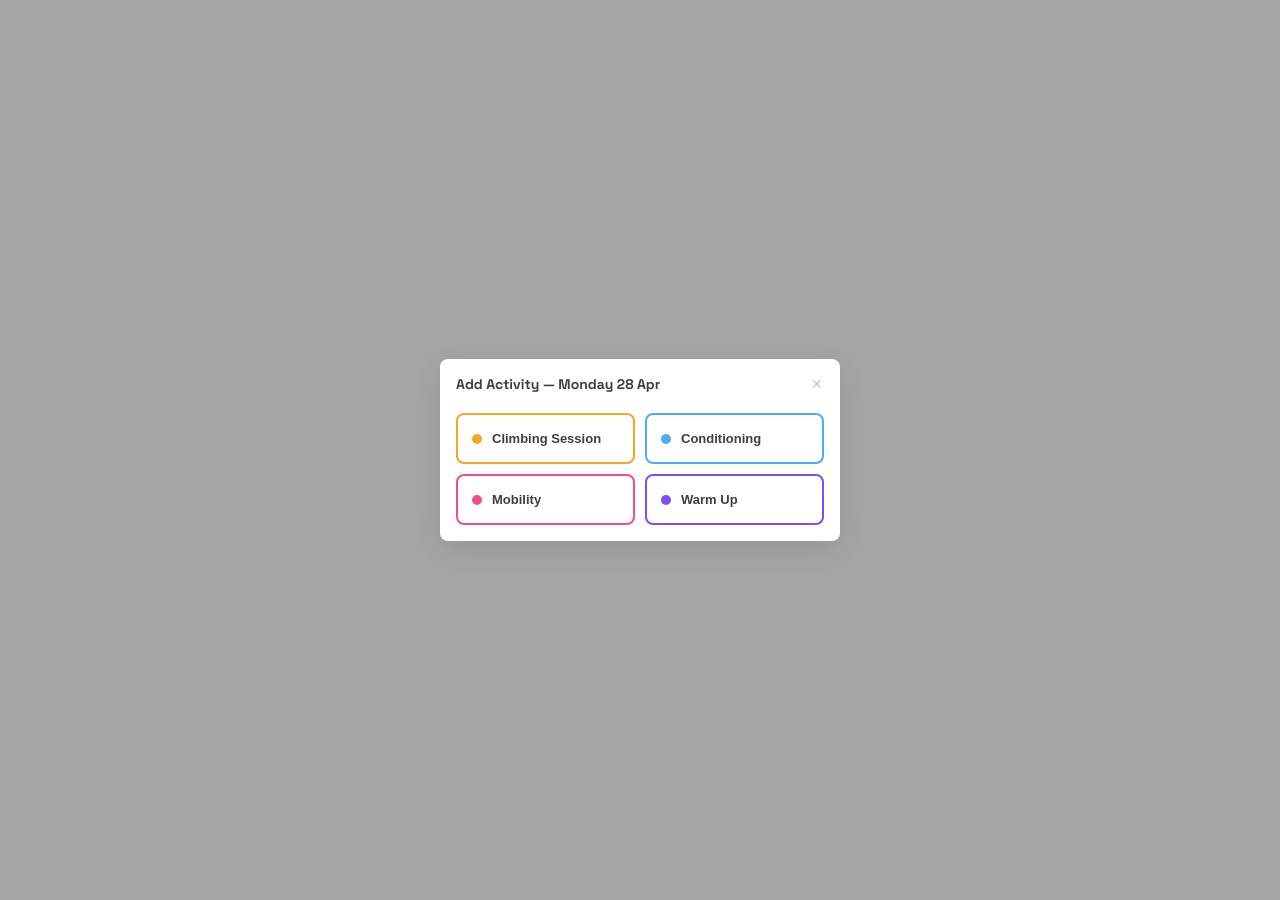
it: AddActivityModal › Step 1: Category Picker › clicking a category advances to step 2
This screenshot has width=1280, height=900.
Click the button "Conditioning" at (734, 438), box [645,413,824,464]
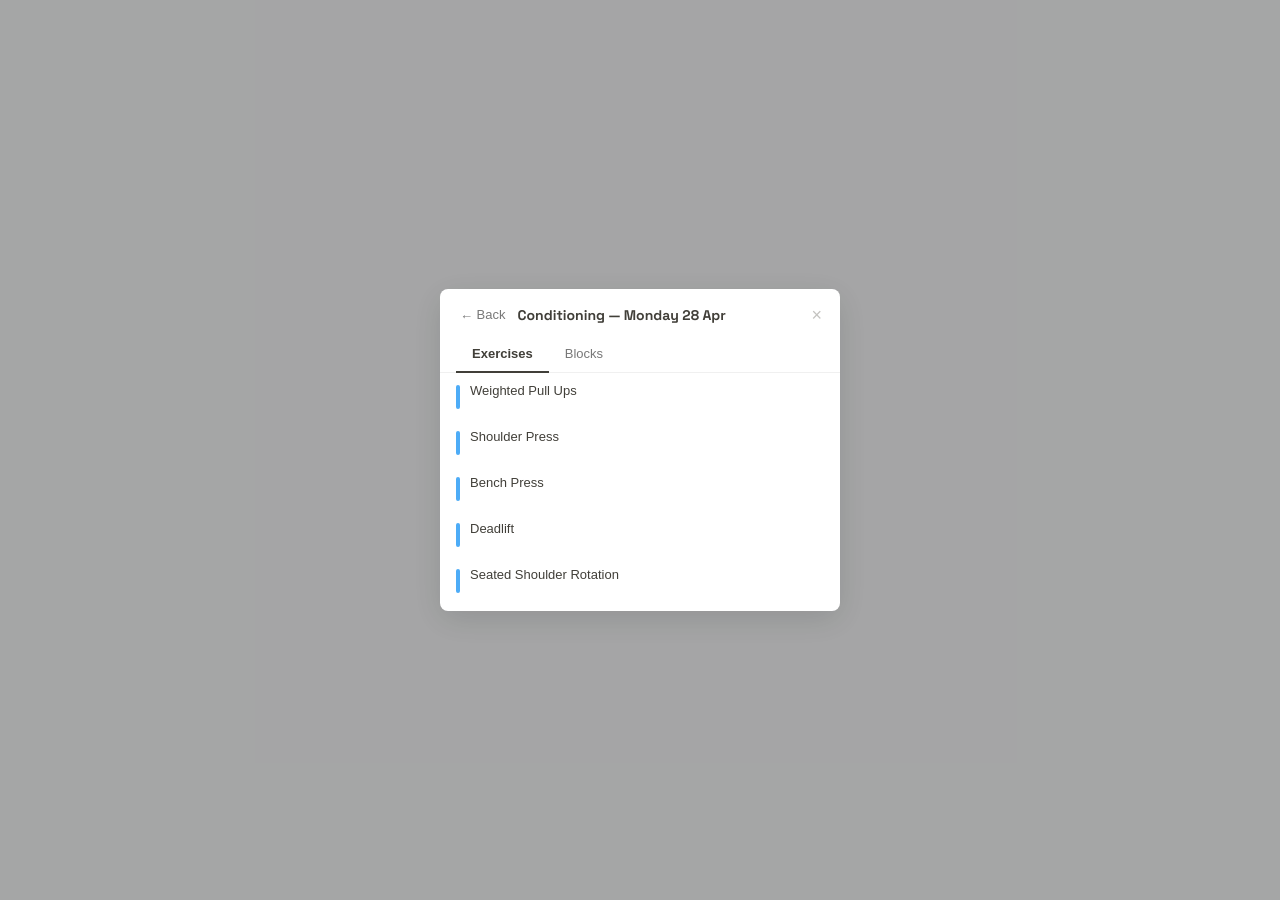
Expected: the button "Climbing Session" is gone
Expected: the button "← Back" is shown, [456,305,510,324]
